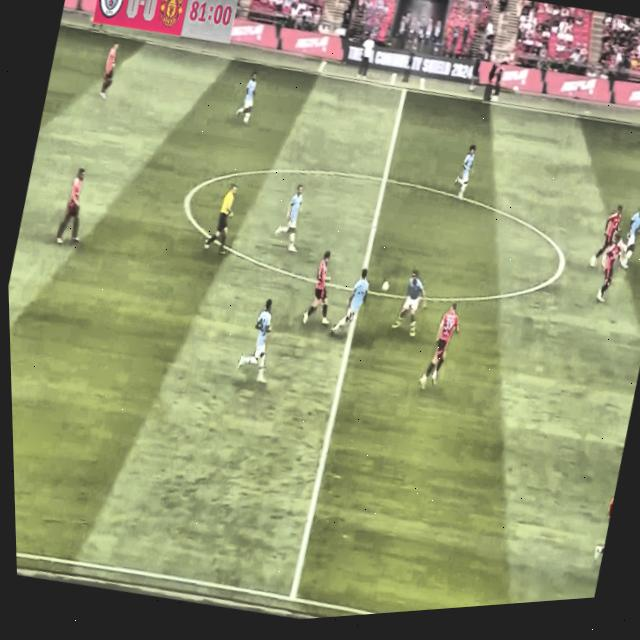ball: (375, 275, 395, 298)
players: (41, 151, 103, 260), (228, 290, 291, 394), (411, 292, 469, 398), (295, 238, 349, 339), (323, 258, 379, 348), (268, 171, 315, 259), (578, 196, 628, 278), (384, 261, 434, 342), (226, 58, 269, 134), (589, 232, 629, 309), (444, 136, 485, 209), (93, 32, 132, 106), (607, 192, 640, 277), (584, 492, 615, 565)
refree: (197, 174, 243, 261)
